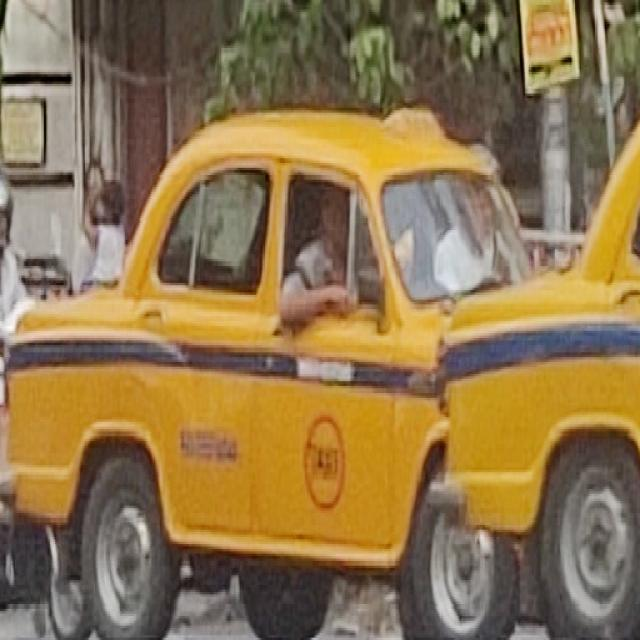ambasador_taxi: (10, 93, 571, 600)
